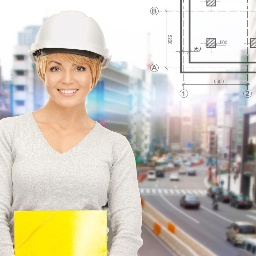helmet: (32, 13, 110, 62)
no-vest: (0, 114, 145, 256)
person: (2, 7, 136, 256)
